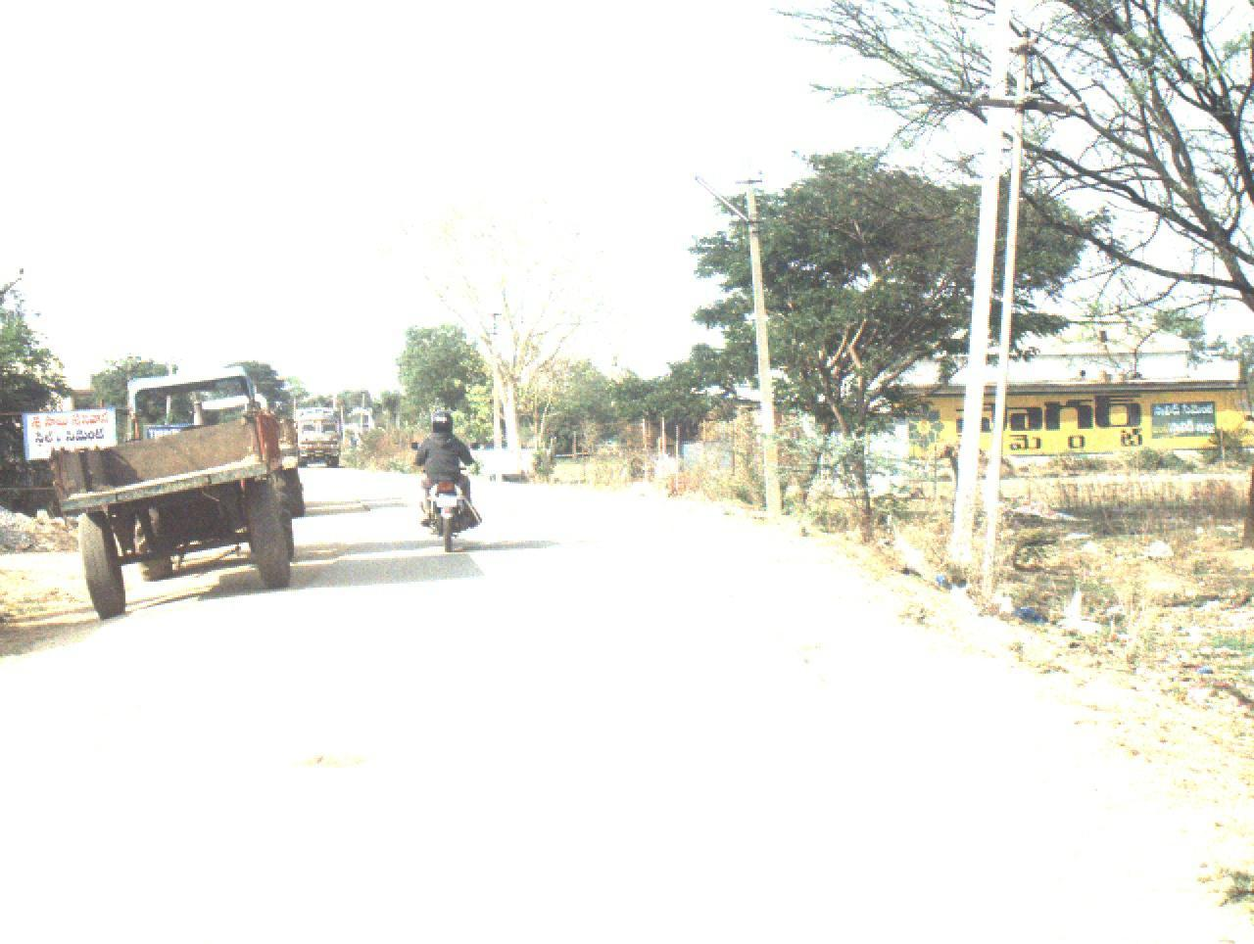streetlight: (691, 176, 768, 237)
